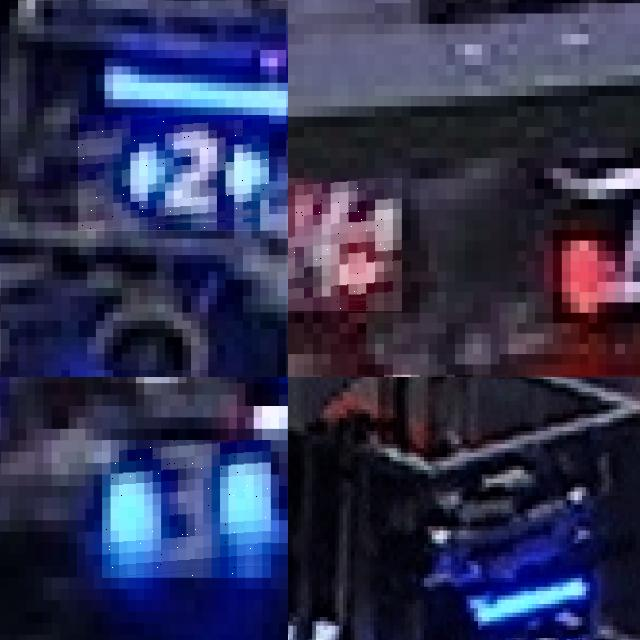B2: (78, 115, 269, 231)
B3: (102, 440, 271, 578)
R4: (288, 178, 401, 312), (552, 199, 640, 333)
